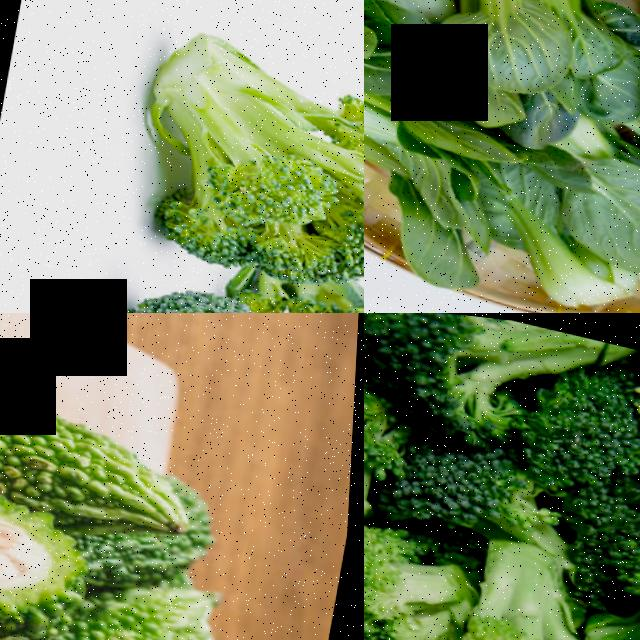bitter gourd: (0, 345, 225, 549), (0, 483, 135, 638), (81, 575, 264, 640)
bok choy: (443, 0, 636, 137), (364, 79, 503, 200)
broccoli: (87, 0, 364, 298), (434, 516, 629, 640), (364, 511, 465, 640)
